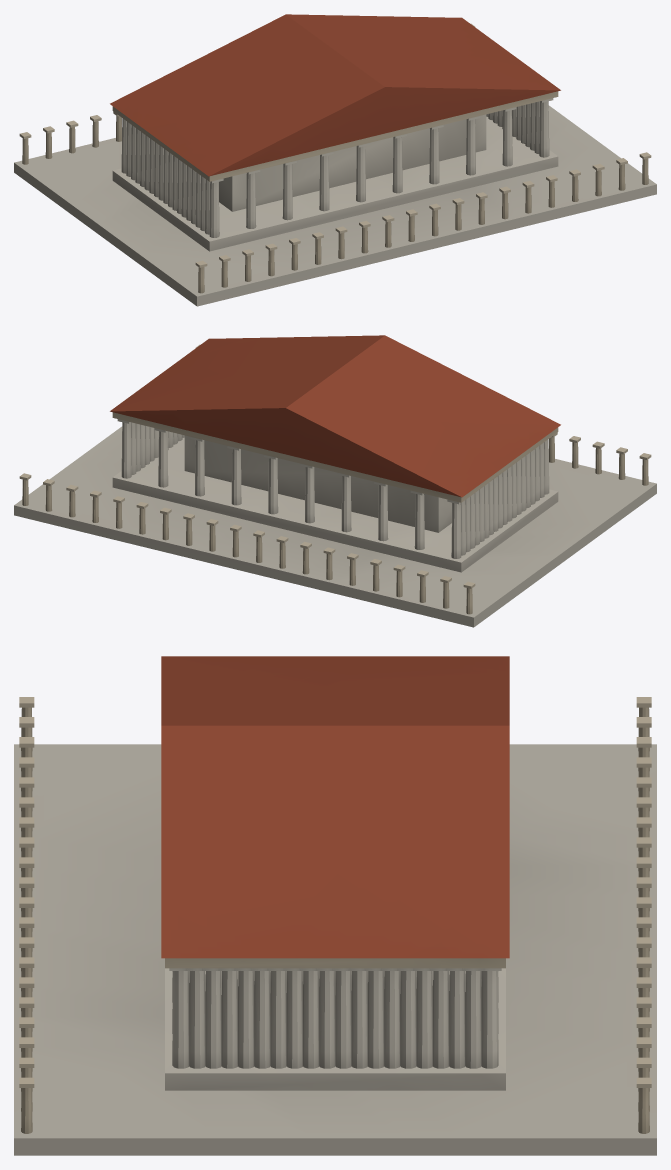
File: temple-of-venus-and-roma.glb
3 renders of one model, top to bottom at view 1: azimuth 30°, elevation 25°; view 2: azimuth 150°, elevation 25°; view 3: azimuth 270°, elevation 25°, orthographic. The views are drawn at different scales.
Visible parts, largest first — view 1: p0_platform, p2_roof, p1_columns; view 2: p0_platform, p2_roof, p1_columns; view 3: p0_platform, p2_roof, p1_columns.
Boxes of the visible parts, x1,y1,x2,y2 form: p0_platform: (14,23,656,306); p2_roof: (110,14,560,181); p1_columns: (121,98,553,237); p0_platform: (14,344,656,627); p2_roof: (110,335,560,502); p1_columns: (117,419,549,558); p0_platform: (14,697,656,1155); p2_roof: (161,656,509,968); p1_columns: (169,968,501,1068).
Size of the model in its own units: 145 by 40 by 100.
